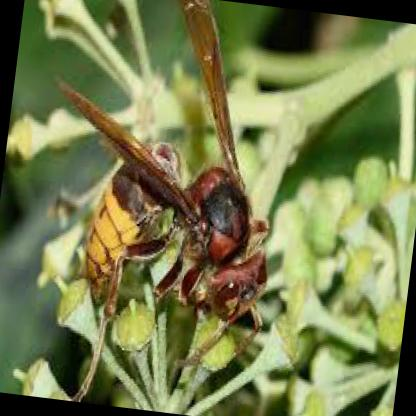european: (13, 8, 304, 376)
